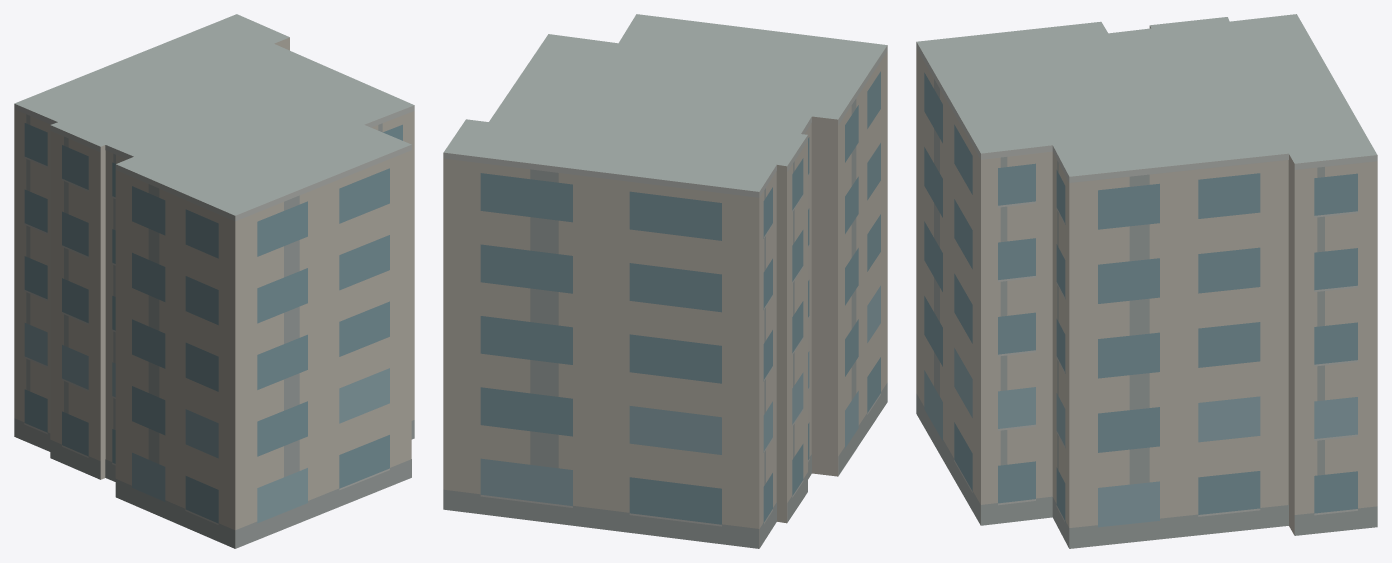
File: survey-upis-32486197.glb
3 views of the same model, side by side, from view 1: azimuth 30°, elevation 25°; view 2: azimuth 150°, elevation 25°; view 3: azimuth 270°, elevation 25° (orthographic). The views are drawn at different scales.
Visible parts, largest first — view 1: survey-upis-32486197.tmp; view 2: survey-upis-32486197.tmp; view 3: survey-upis-32486197.tmp.
Part boxes in pixels (x1,y1,x2,y2): survey-upis-32486197.tmp: (14,14,414,548); survey-upis-32486197.tmp: (443,14,887,548); survey-upis-32486197.tmp: (916,14,1377,548).
Size of the model in its own units: 13.72 by 14.61 by 16.42.
